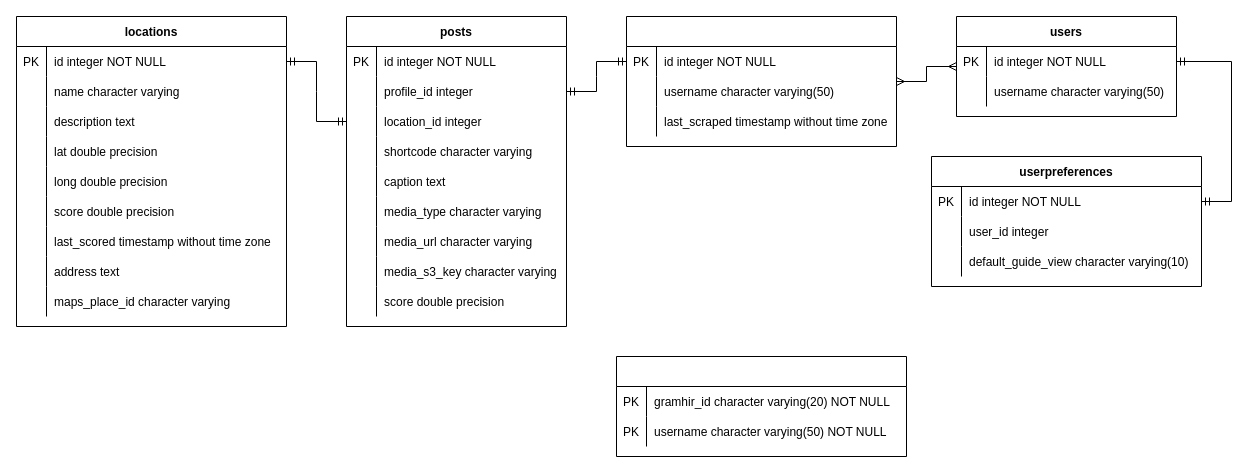
Some shapes in this 1248 by 473 pixel diagram are drawn without their labels. The box of each missing label's shape, as (x1, y1, x2, y2) in pixels:
gramhirprofiles: (616, 356, 906, 456)
socialprofiles: (626, 16, 896, 146)
